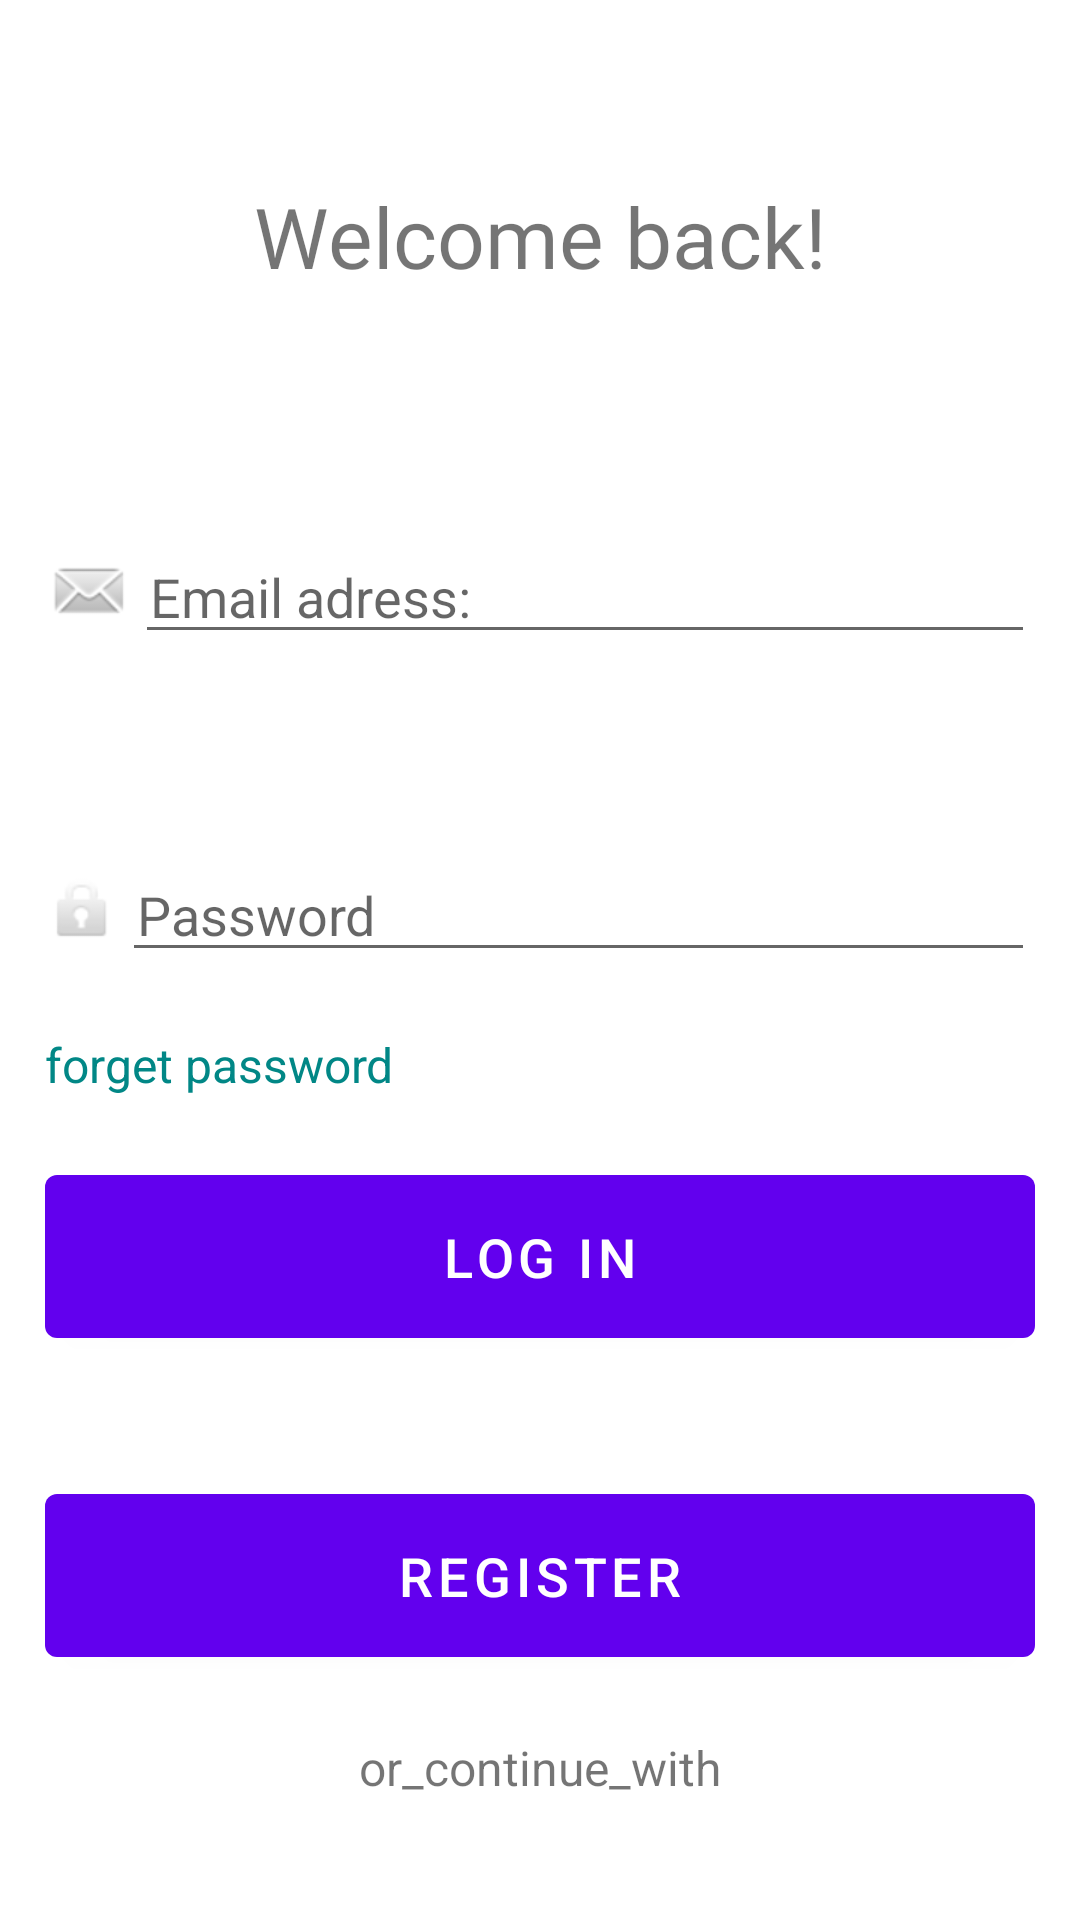

Where icons sit on this 1080x1920 app screen, as (x1, y1, x2, y2):
lock idle: (57, 903, 106, 936)
sym action email: (55, 568, 123, 613)
